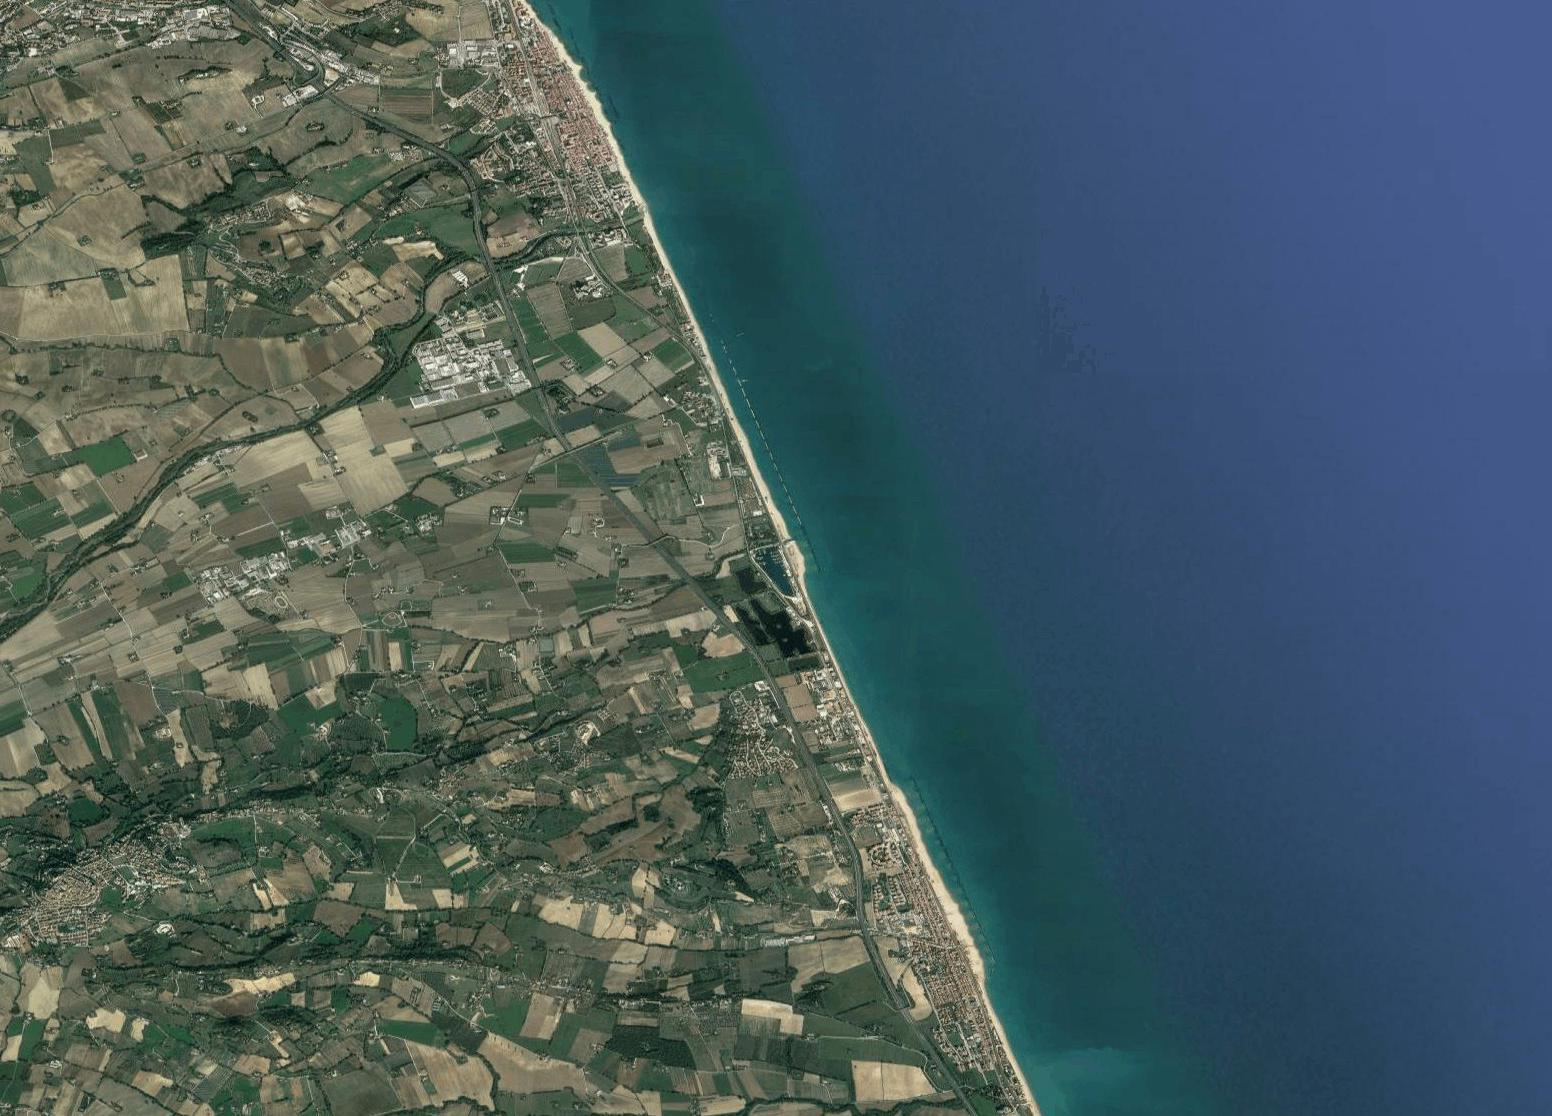industrial: (416, 329, 523, 411)
motorway: (294, 57, 382, 127), (663, 553, 737, 634), (912, 1018, 974, 1116), (593, 469, 663, 554), (382, 119, 474, 183), (737, 634, 793, 726), (792, 727, 846, 820), (539, 388, 590, 471), (866, 926, 913, 1017), (229, 1, 299, 58), (465, 182, 501, 284), (501, 284, 537, 386), (837, 820, 868, 930)
